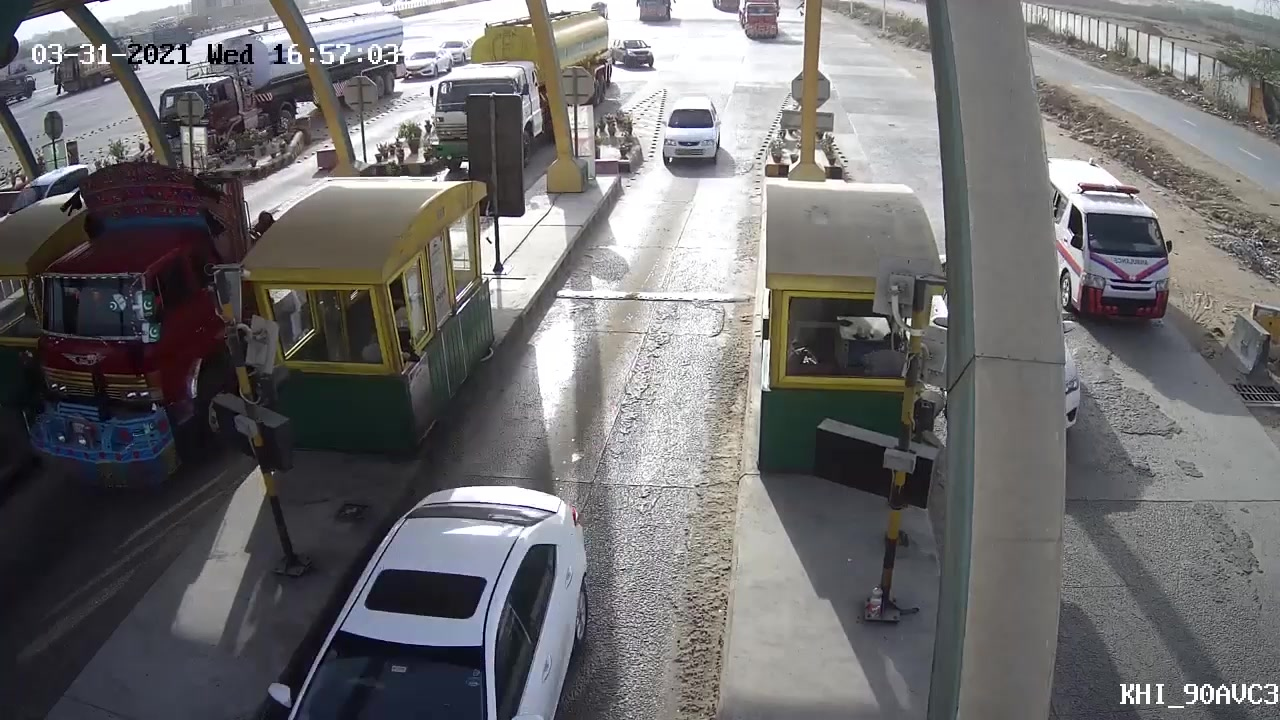F1: (644, 94, 727, 173)
